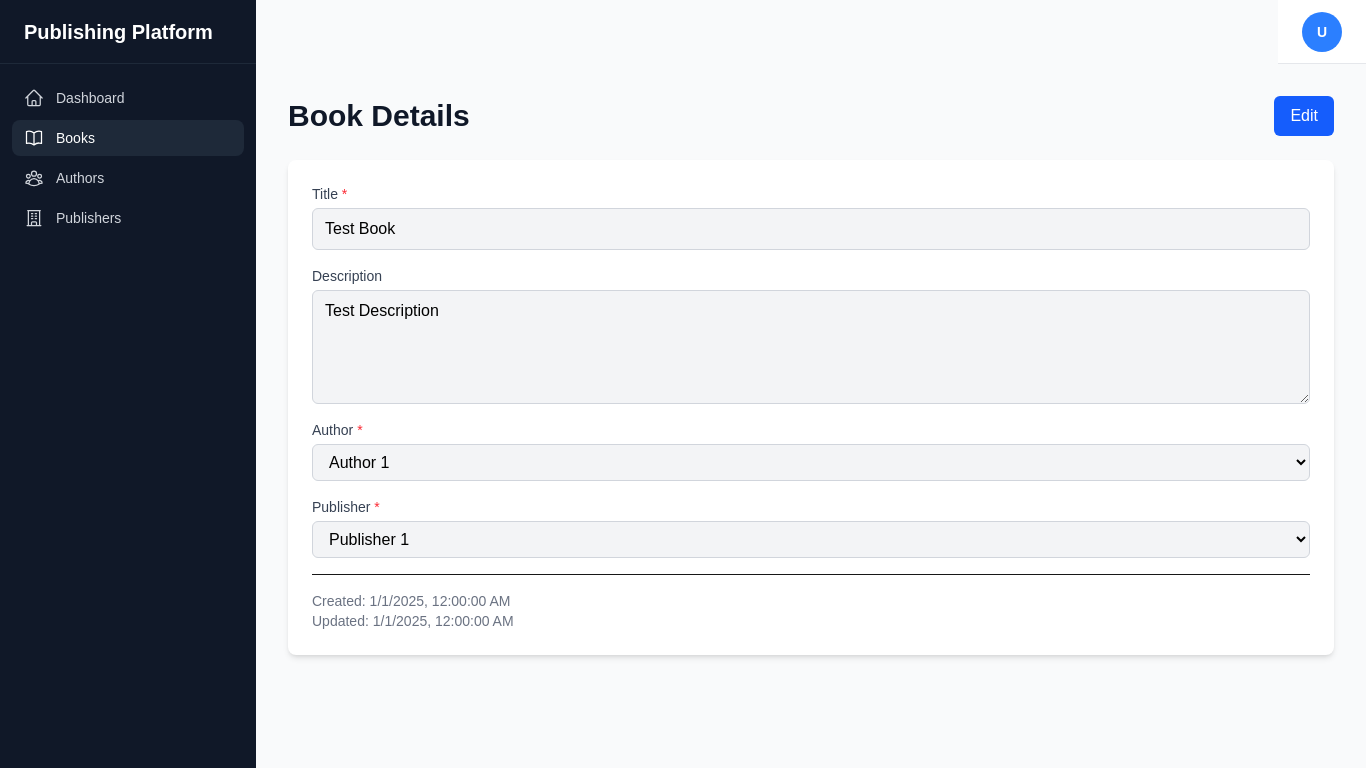
Test case: BookDetailPage › View Mode › should enable edit mode when edit button is clicked
Expected: the field showing "Test Book" is disabled, [312,208,1310,250]
Click the button "Edit" at [1304, 116], box [1274,96,1334,136]
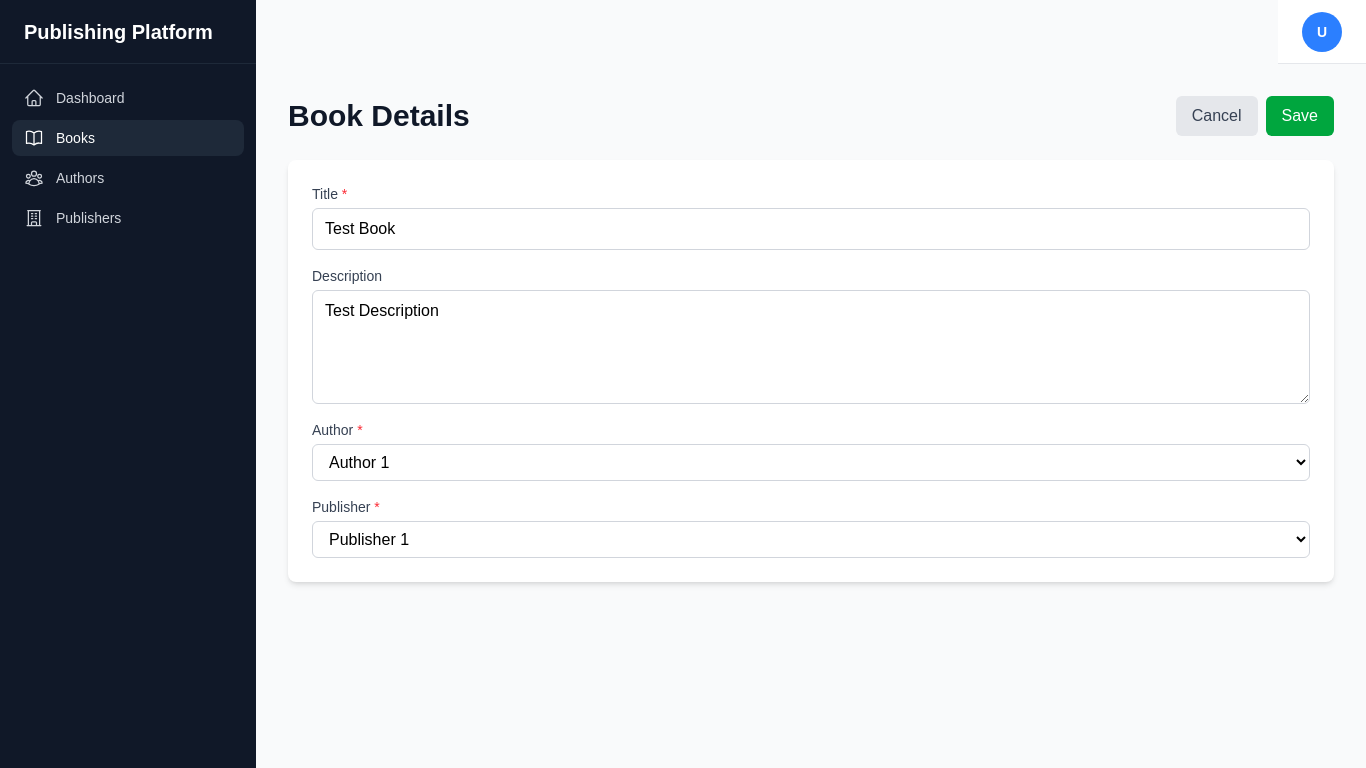
Expected: the field showing "Test Book" is enabled, [312,208,1310,250]
Expected: the button "Save" is shown, [1266,96,1334,136]
